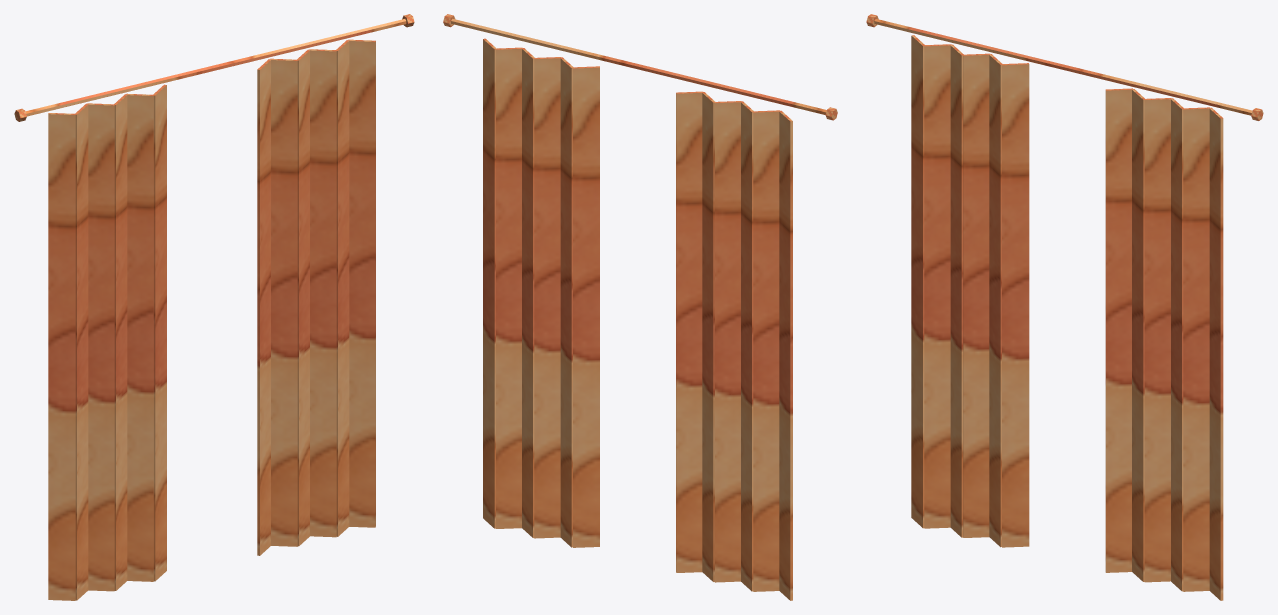
File: Curtain.fbx
3 views of the same model, side by side, from view 1: azimuth 30°, elevation 25°; view 2: azimuth 150°, elevation 25°; view 3: azimuth 330°, elevation 25° (orthographic).
Parts seen in each view (by area): view 1: Curtain; view 2: Curtain; view 3: Curtain.
Boxes of the visible parts, left/top/right/bottom form: Curtain: left=14, top=14, right=414, bottom=600; Curtain: left=443, top=14, right=837, bottom=600; Curtain: left=866, top=14, right=1263, bottom=600.
Size of the model in its own units: 1.85 by 2.25 by 0.082.
